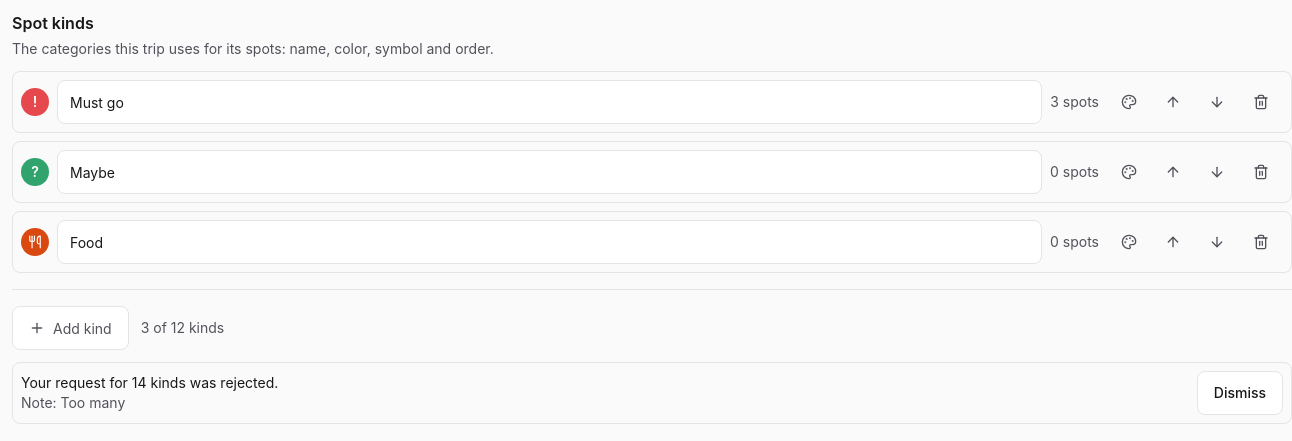
it: spot kinds section › T-29-11 shows a decided request once until dismissed
Expected: the text "Your request for 14 kinds was rejected." is shown, [21, 374, 278, 391]
Expected: the text "Note: Too many" is shown, [21, 394, 125, 411]
Step 1. Click the button "Dismiss" → (1240, 393), box [1197, 371, 1283, 415]
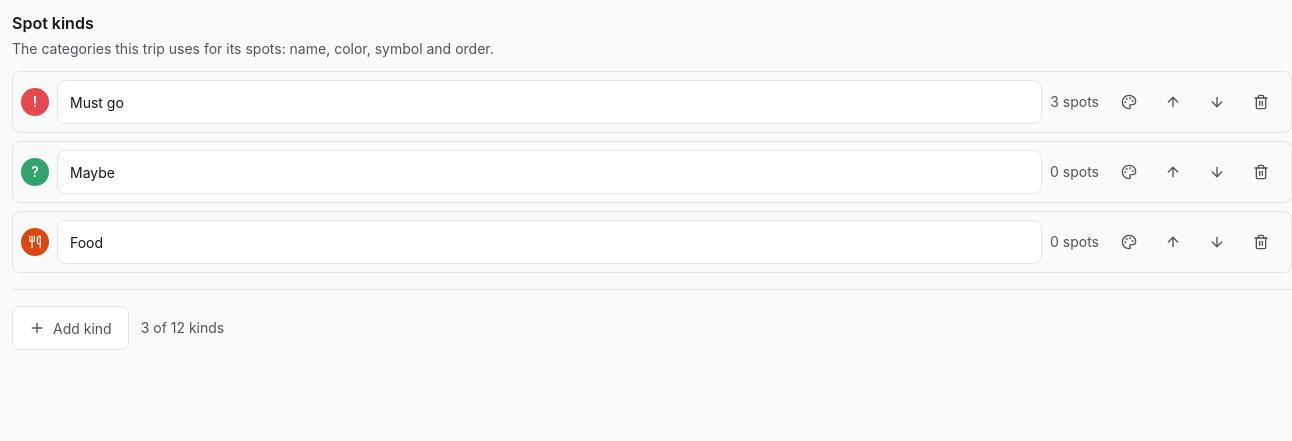
Result: the message with test id "kind-request-result" is gone
